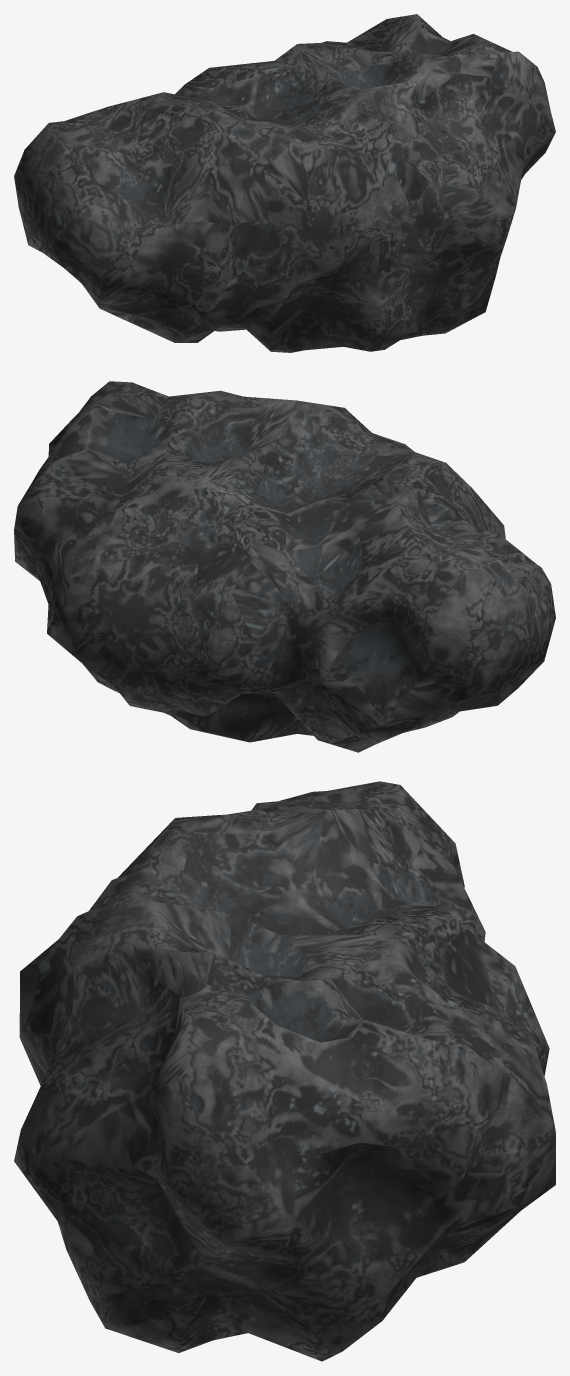
The model's file is Asteroid_1e.obj.
3 views of the same model, one above another, from view 1: azimuth 30°, elevation 25°; view 2: azimuth 150°, elevation 25°; view 3: azimuth 270°, elevation 25° (orthographic). The views are drawn at different scales.
Parts seen in each view (by area): view 1: Asteroid_1e; view 2: Asteroid_1e; view 3: Asteroid_1e.
Boxes of the visible parts, left/top/right/bottom form: Asteroid_1e: left=14, top=14, right=555, bottom=352; Asteroid_1e: left=14, top=381, right=555, bottom=752; Asteroid_1e: left=14, top=781, right=555, bottom=1361.
Bounding box in the file's own units: 4.34 × 2.29 × 2.84.
1 material, 1 textured.
